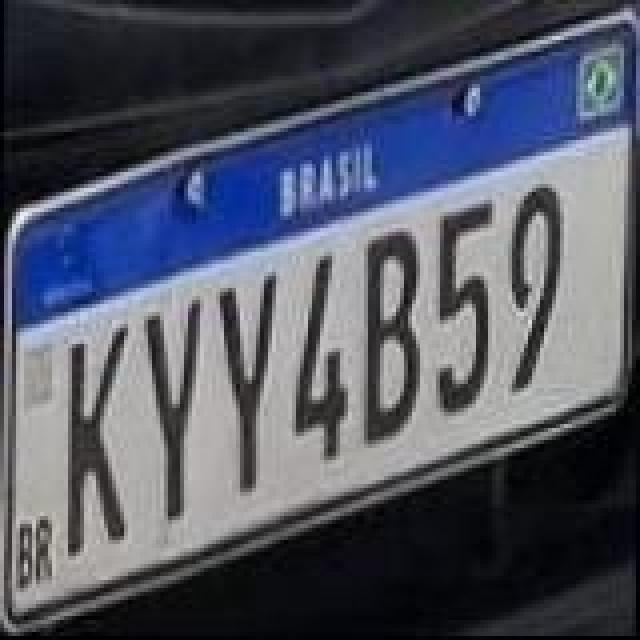4: (294, 254, 354, 462)
5: (434, 198, 494, 418)
9: (506, 180, 566, 396)
B: (360, 228, 424, 452)
K: (64, 326, 132, 562)
Y: (142, 298, 206, 526), (214, 268, 278, 492)
